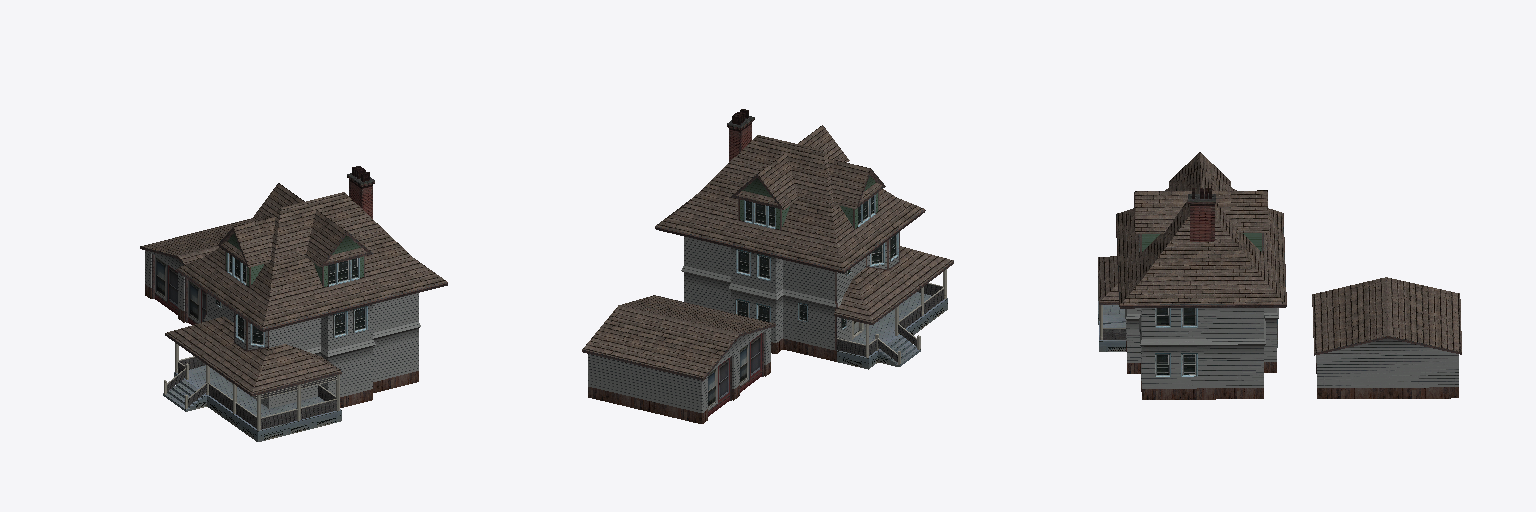
The picture shows the model from 3 angles: view 1: azimuth 30°, elevation 25°; view 2: azimuth 150°, elevation 25°; view 3: azimuth 270°, elevation 25°; orthographic projection.
Visible parts, largest first — view 1: mesh0001, mesh0004, mesh0002, mesh0003, mesh0000, mesh0006, mesh0005; view 2: mesh0001, mesh0004, mesh0002, mesh0000, mesh0003, mesh0006, mesh0005; view 3: mesh0001, mesh0004, mesh0000, mesh0005, mesh0002.
Part boxes in pixels (left/top/right/bottom): mesh0001: left=141, top=183, right=446, bottom=393; mesh0004: left=140, top=228, right=447, bottom=408; mesh0002: left=163, top=343, right=341, bottom=441; mesh0003: left=155, top=234, right=363, bottom=324; mesh0000: left=215, top=253, right=367, bottom=347; mesh0006: left=167, top=357, right=336, bottom=429; mesh0005: left=347, top=166, right=374, bottom=218; mesh0001: left=582, top=125, right=953, bottom=377; mesh0004: left=582, top=169, right=953, bottom=423; mesh0002: left=837, top=269, right=947, bottom=369; mesh0000: left=735, top=195, right=898, bottom=329; mesh0003: left=708, top=176, right=877, bottom=416; mesh0006: left=837, top=284, right=943, bottom=361; mesh0005: left=727, top=109, right=754, bottom=161; mesh0001: left=1098, top=152, right=1461, bottom=352; mesh0004: left=1098, top=192, right=1461, bottom=399; mesh0000: left=1139, top=233, right=1277, bottom=376; mesh0005: left=1188, top=188, right=1215, bottom=241; mesh0002: left=1098, top=278, right=1125, bottom=351.
Bounding box in the file's own units: 649 × 543 × 913.
7 materials, 6 textured.